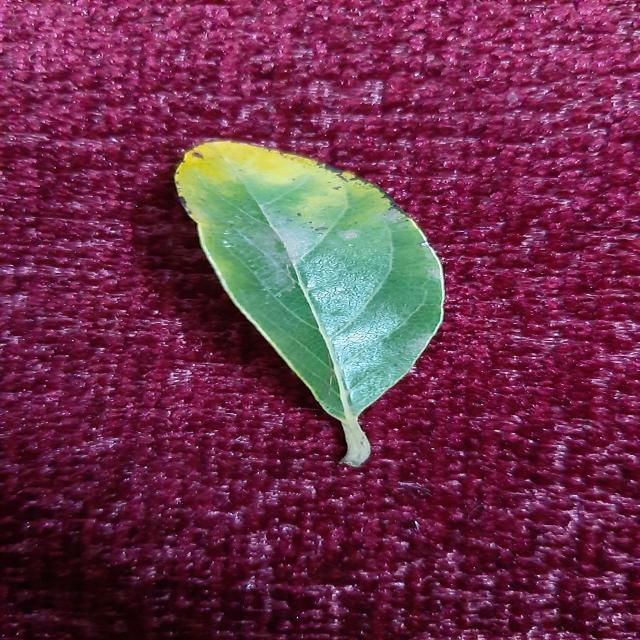seethaphala: (176, 141, 444, 466)
